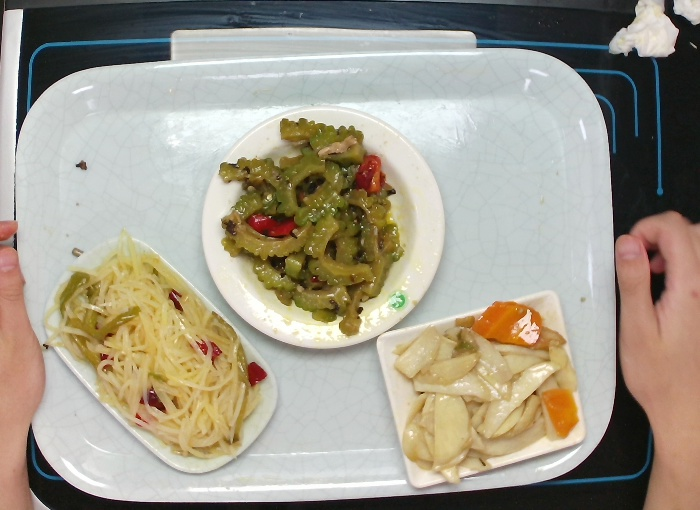WCQzf-Bai_Se_Si_Fang_Die: (372, 284, 592, 493)
WCQzf-Kuan_Bian_Yuan_Die: (195, 102, 449, 355)
WCQzf-Tuo_Yuan_Pan: (43, 232, 283, 479)
